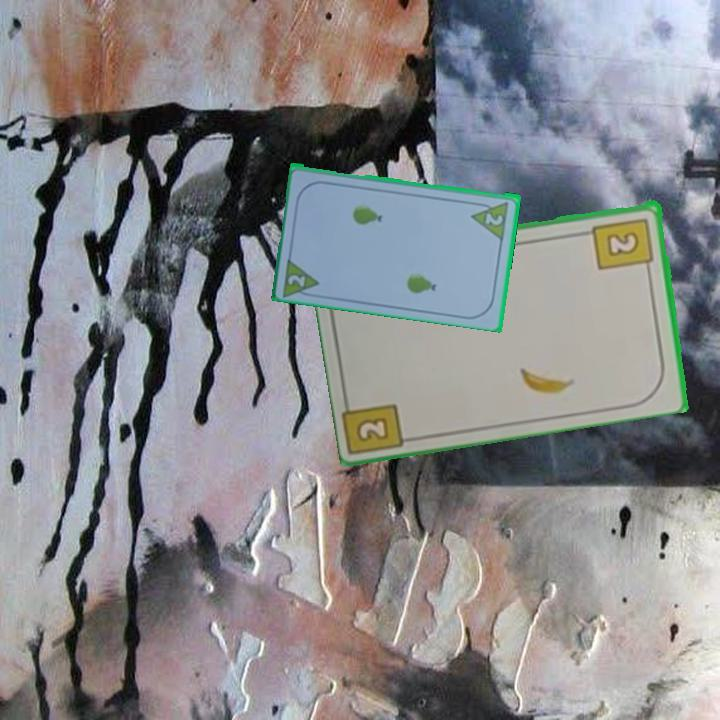2b: (590, 214, 657, 275), (352, 413, 393, 445)
2p: (279, 253, 323, 300), (482, 209, 506, 228)
